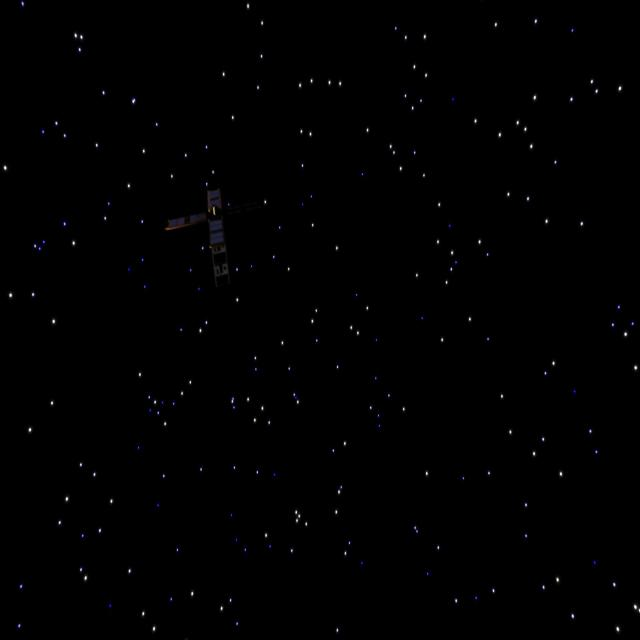satellite: (158, 182, 250, 288)
